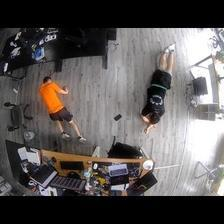fall: (140, 41, 177, 135), (37, 77, 87, 144)
